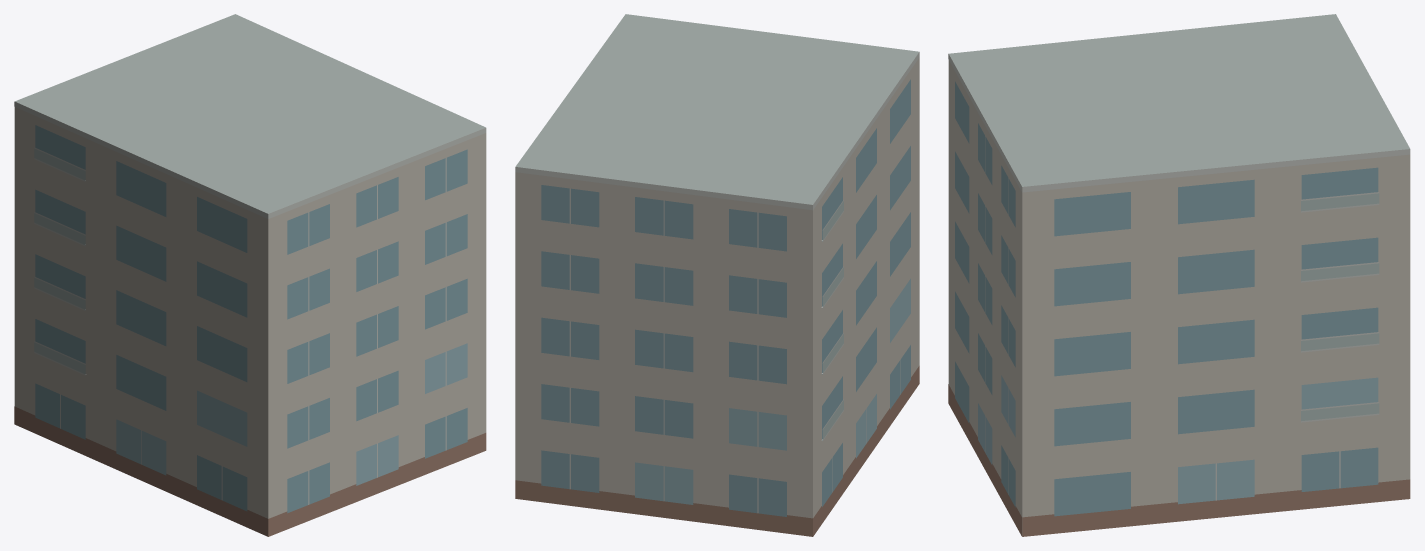
File: survey-upis-33043660.glb
3 views of the same model, side by side, from view 1: azimuth 30°, elevation 25°; view 2: azimuth 150°, elevation 25°; view 3: azimuth 270°, elevation 25° (orthographic). The views are drawn at different scales.
Visible parts, largest first — view 1: survey-upis-33043660.tmp; view 2: survey-upis-33043660.tmp; view 3: survey-upis-33043660.tmp.
Boxes of the visible parts, x1,y1,x2,y2 form: survey-upis-33043660.tmp: (14, 14, 486, 536); survey-upis-33043660.tmp: (515, 14, 919, 536); survey-upis-33043660.tmp: (948, 14, 1410, 536).
Size of the model in its own units: 16.17 by 15.25 by 18.25.
